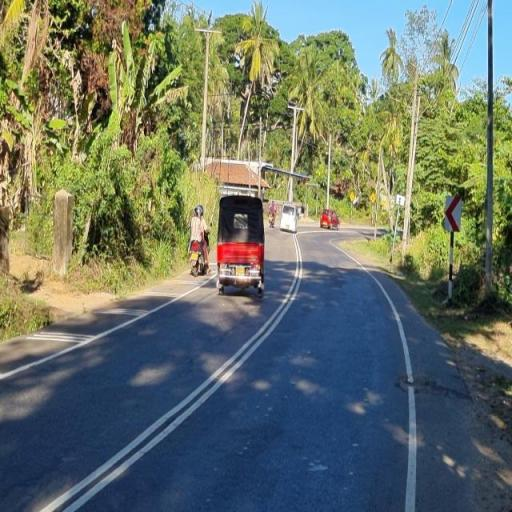double_white_line: (42, 237, 304, 512)
